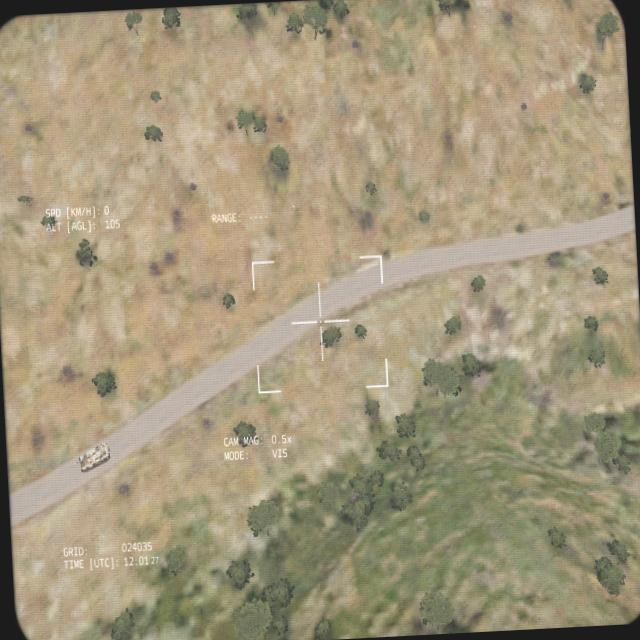tank: (65, 440, 112, 478)
